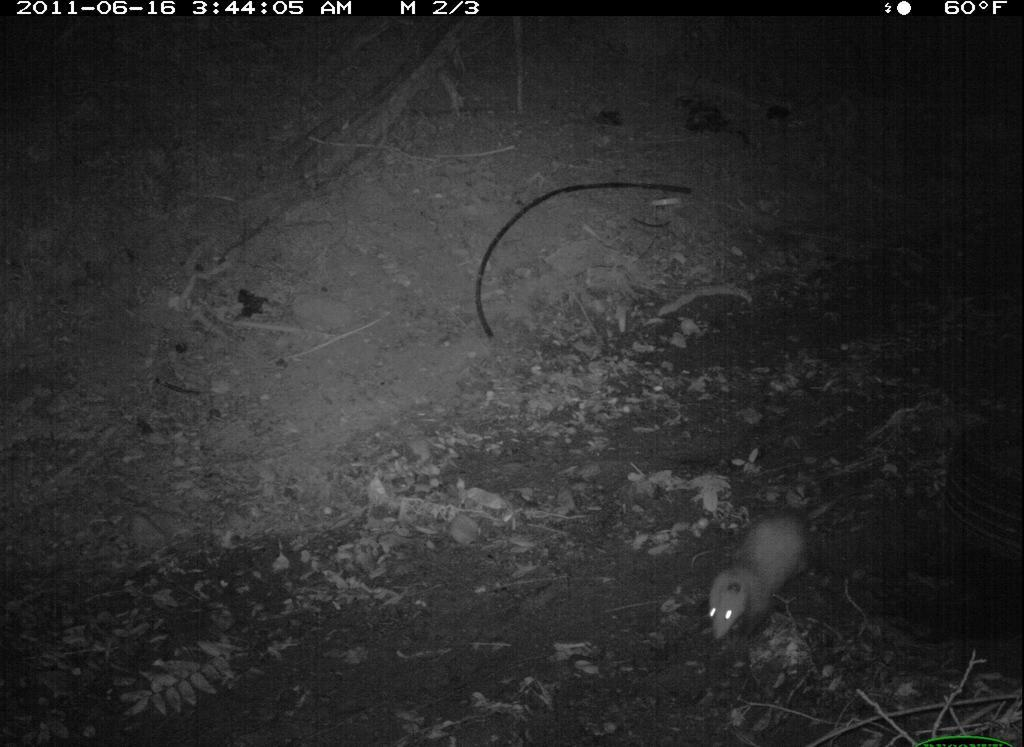opossum: (694, 491, 853, 664)
